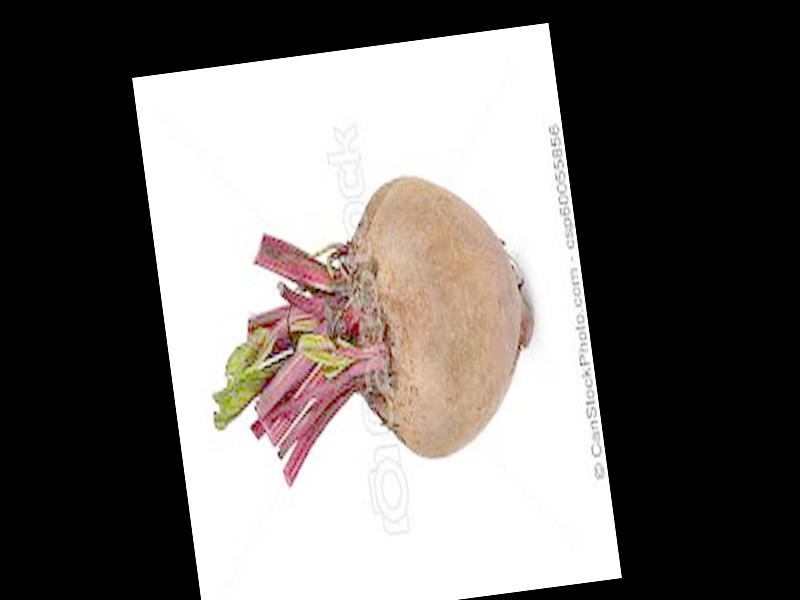Beet: (186, 160, 550, 494)
